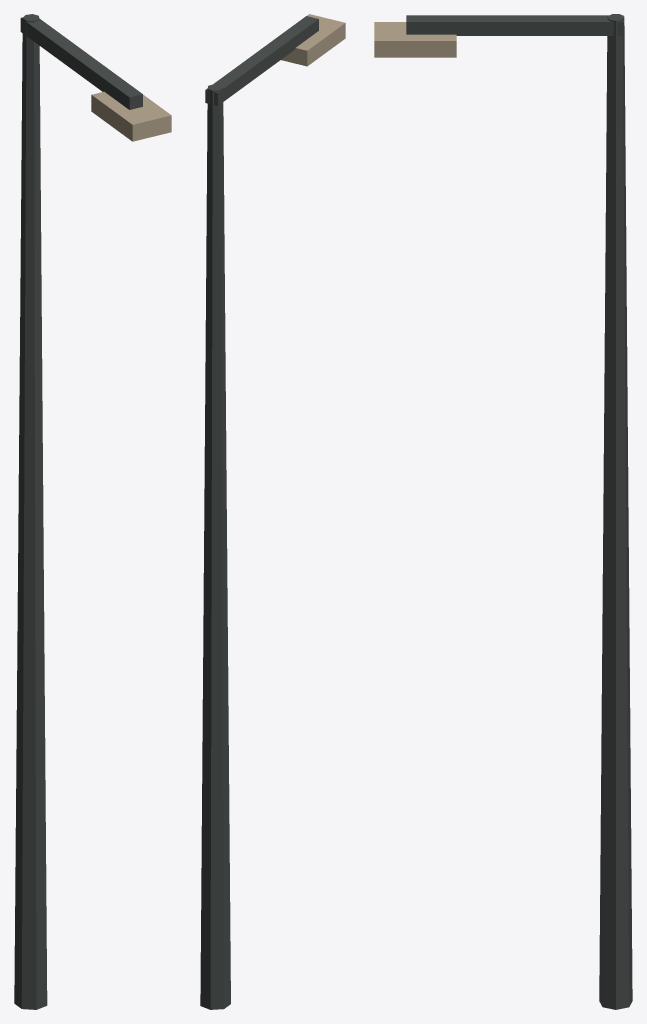
Rendered from streetlight.glb.
3 views of the same model, side by side, from view 1: azimuth 30°, elevation 25°; view 2: azimuth 150°, elevation 25°; view 3: azimuth 270°, elevation 25° (orthographic). The views are drawn at different scales.
Visible parts, largest first — view 1: streetlight; view 2: streetlight; view 3: streetlight.
Part boxes in pixels (x1,y1,x2,y2): streetlight: (14, 14, 171, 1009); streetlight: (200, 14, 345, 1009); streetlight: (374, 14, 632, 1009).
Bounding box in the file's own units: 0.29 × 7 × 1.66.
